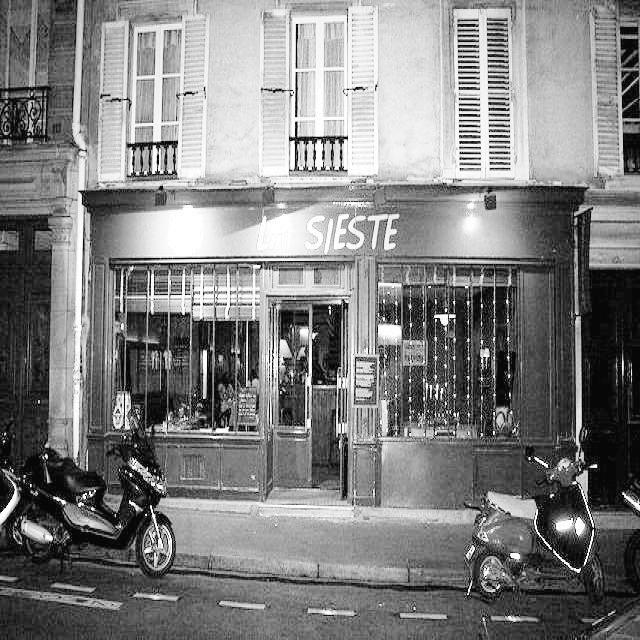Motorcycle: (0, 395, 237, 579), (474, 428, 619, 625)
